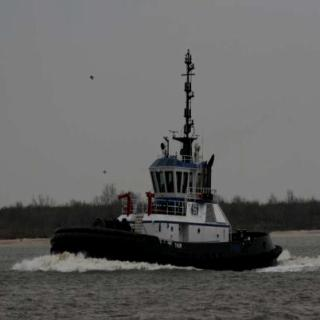Tug Boat: (44, 146, 286, 264)
